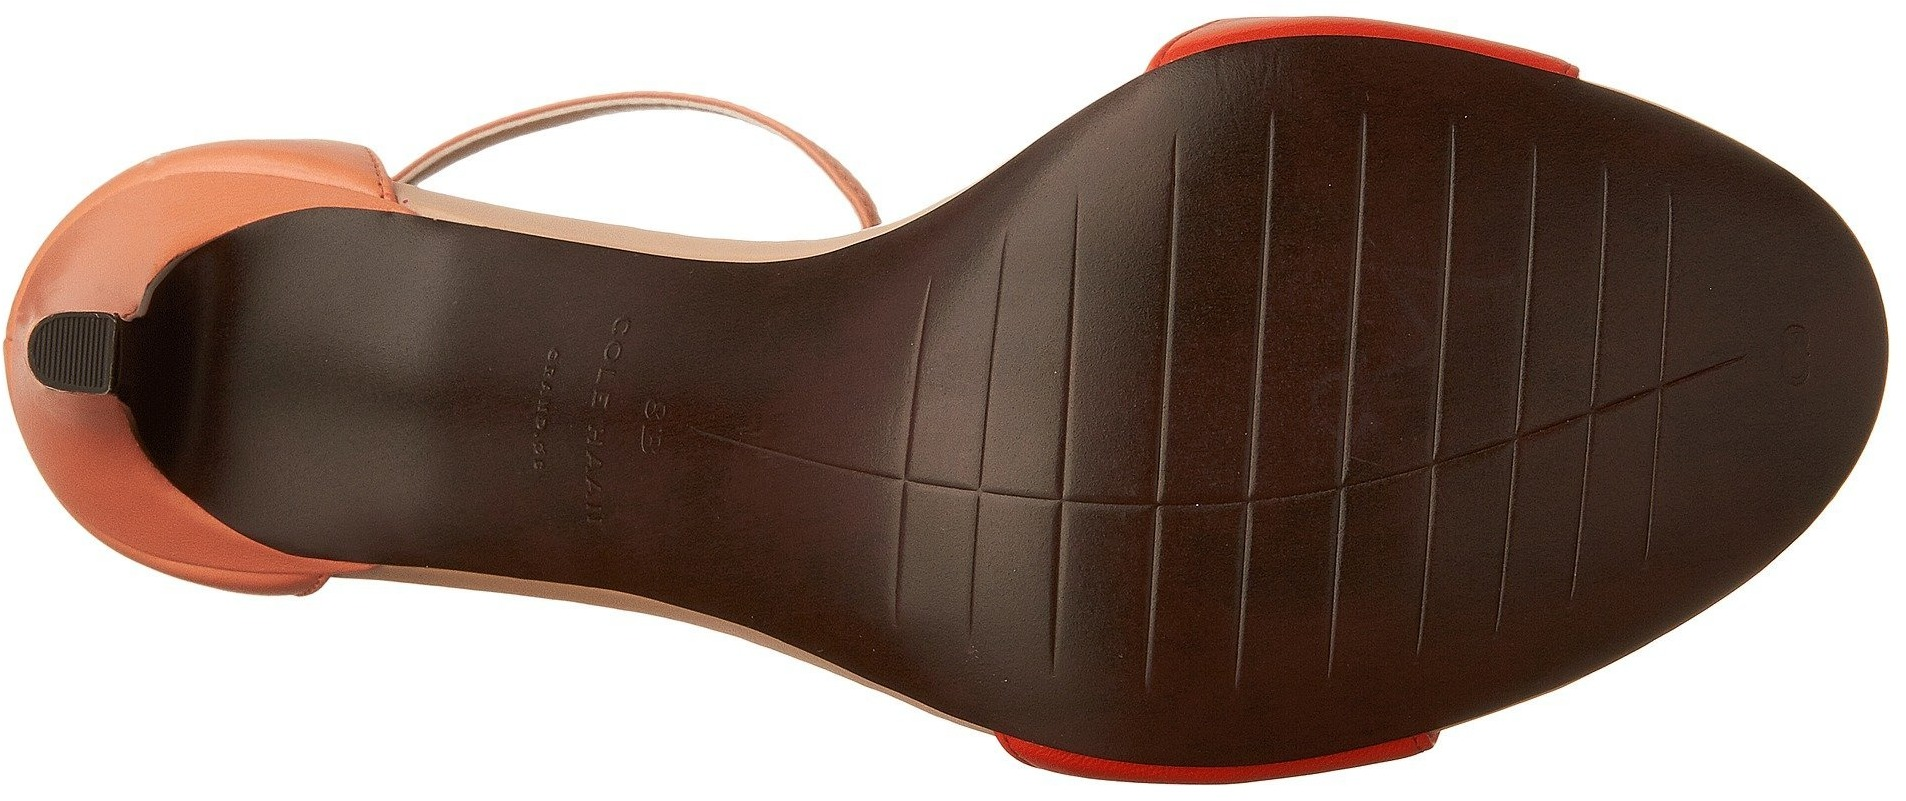exclude: (449, 73, 940, 777)
line: (1168, 118, 1484, 451), (1509, 213, 1687, 400), (1129, 526, 1316, 703), (43, 321, 107, 385)
text: (546, 318, 690, 493)
